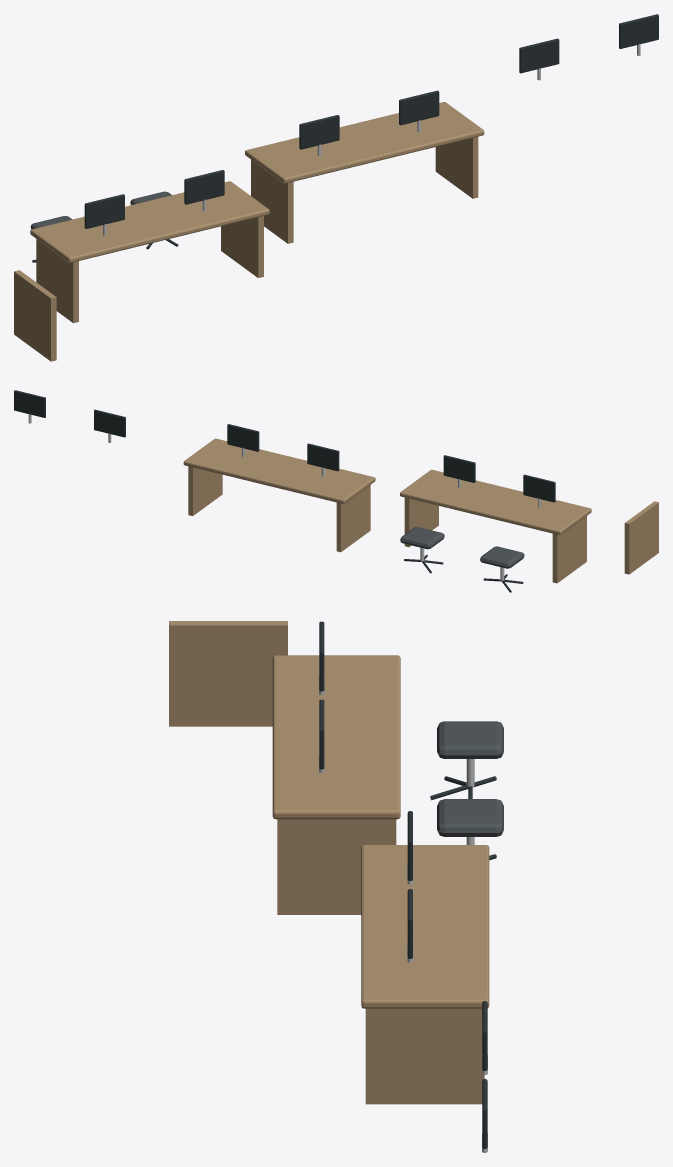
Rendered from SM_L5_Furniture_Solid_53658024fd_0.fbx.
The picture shows the model from 3 angles, top to bottom: view 1: azimuth 30°, elevation 25°; view 2: azimuth 150°, elevation 25°; view 3: azimuth 270°, elevation 25°; orthographic projection. The views are drawn at different scales.
Visible parts, largest first — view 1: SM_L5_Furniture_Solid_53658024fd_0; view 2: SM_L5_Furniture_Solid_53658024fd_0; view 3: SM_L5_Furniture_Solid_53658024fd_0.
Part boxes in pixels (x1,y1,x2,y2): SM_L5_Furniture_Solid_53658024fd_0: [14, 14, 658, 361]; SM_L5_Furniture_Solid_53658024fd_0: [14, 390, 658, 592]; SM_L5_Furniture_Solid_53658024fd_0: [169, 621, 503, 1152].
Size of the model in its own units: 8.79 by 2.25 by 1.23.
